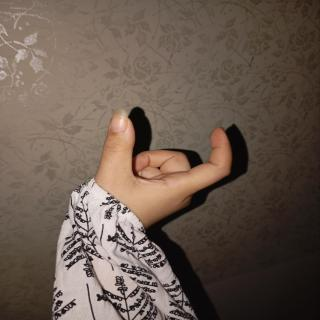NOON: (73, 94, 250, 236)
